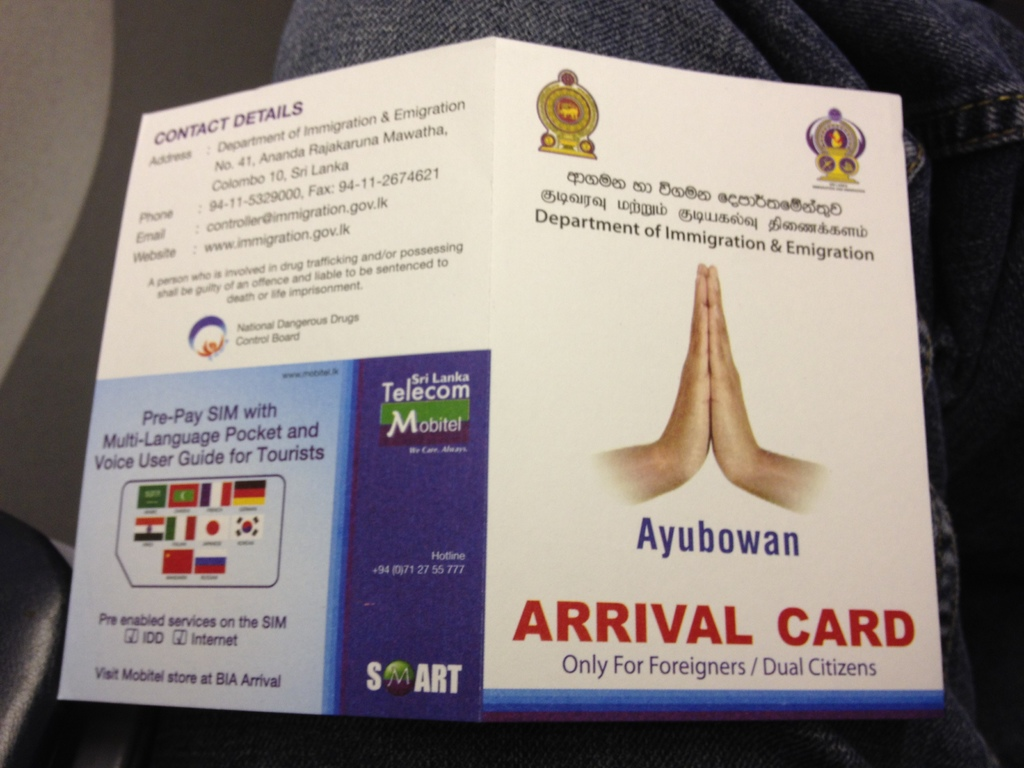Human_hand: (604, 291, 819, 537), (706, 264, 767, 484)
